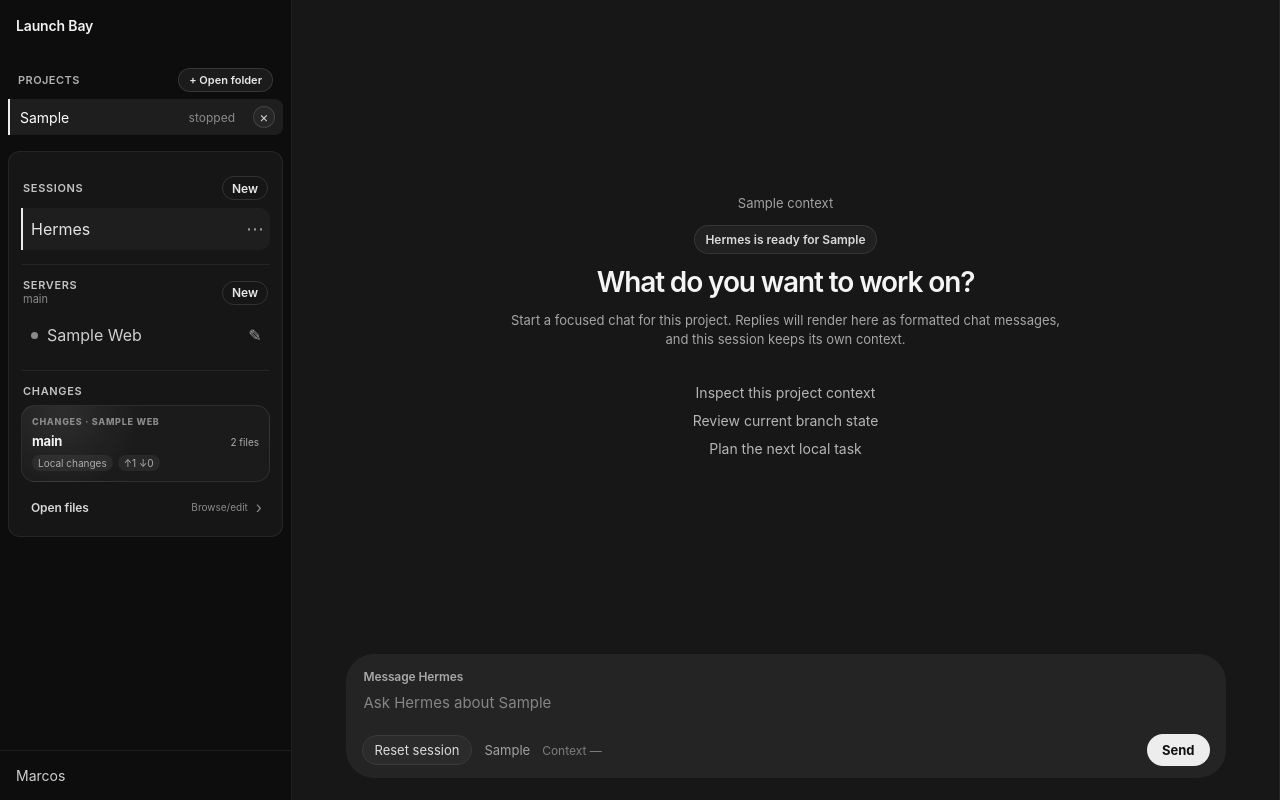
Test case: Launch Bay shell › runs and edits a configured server by server id when it differs from the workspace id
Click the button "Servers" at coordinates (50, 285), box 23,279 -> 77,291
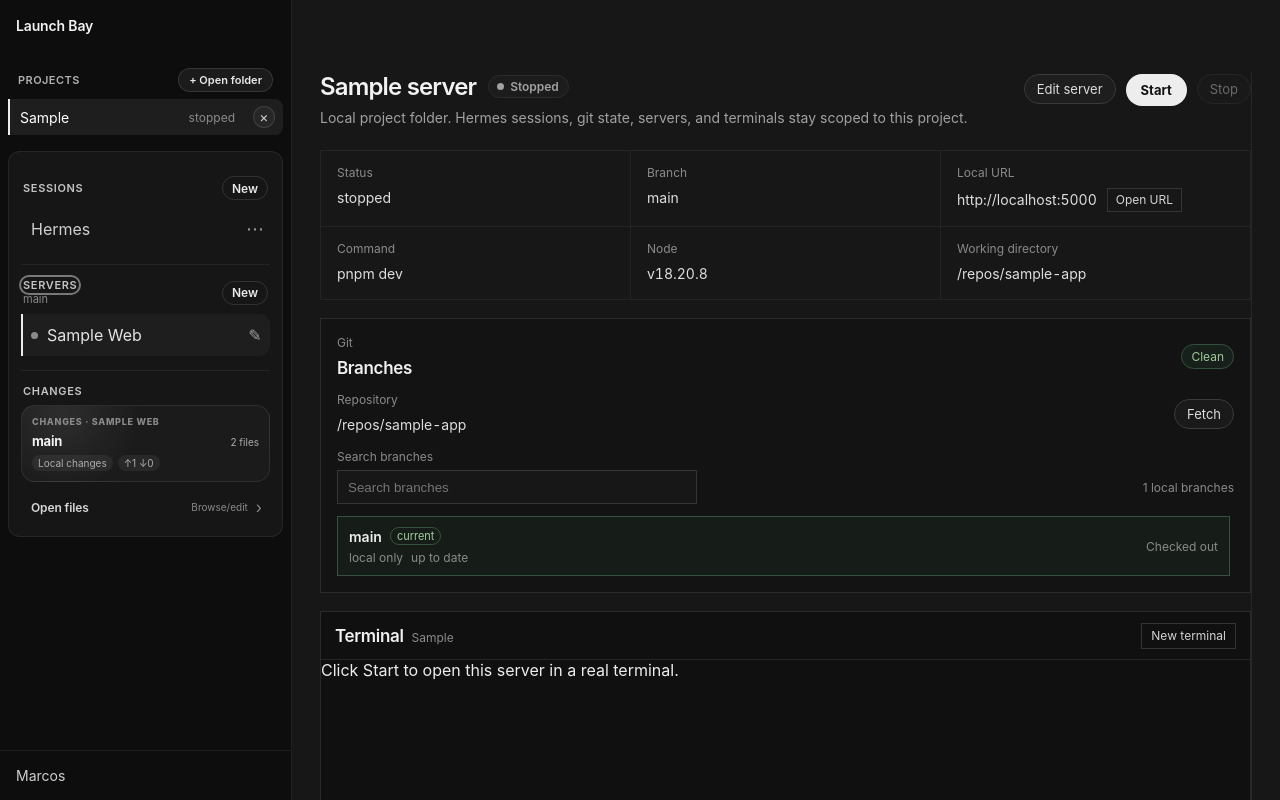
Check: the button with aria-label "New server" is shown, box 222,281 -> 268,305
Check: the button "Edit server" is shown
Check: the text "v18.20.8" is shown, box 647,265 -> 708,282
Click the button "Edit server" at coordinates (1070, 89), box 1024,74 -> 1116,104
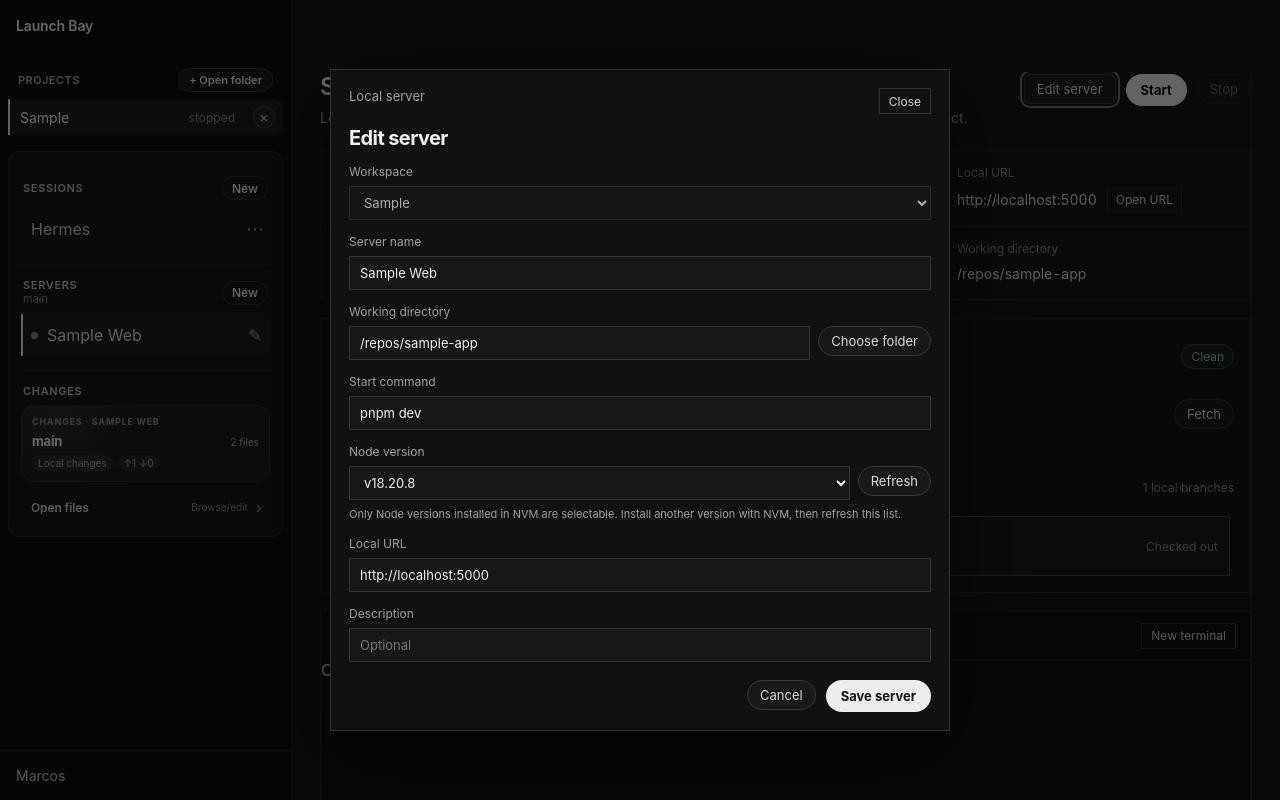
Check: the field labelled "Server name" holds "Sample Web", box 349,256 -> 931,290
Check: the dropdown labelled "Node version" shows "v18.20.8", box 349,466 -> 850,500
Check: the field labelled "Local URL" holds "http://localhost:5000", box 349,558 -> 931,592
Press Escape
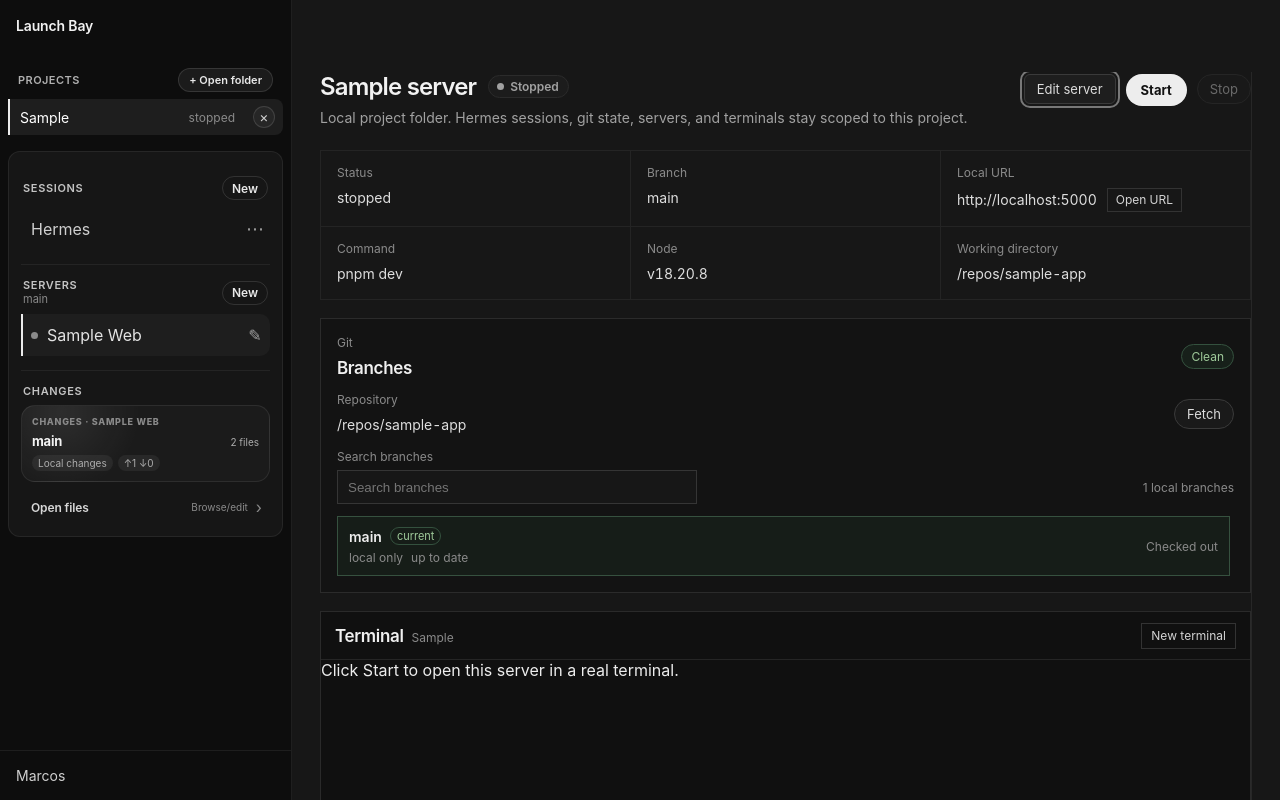
Click the button "Start" at coordinates (1156, 90), box 1126,74 -> 1187,106
(page scrolled)
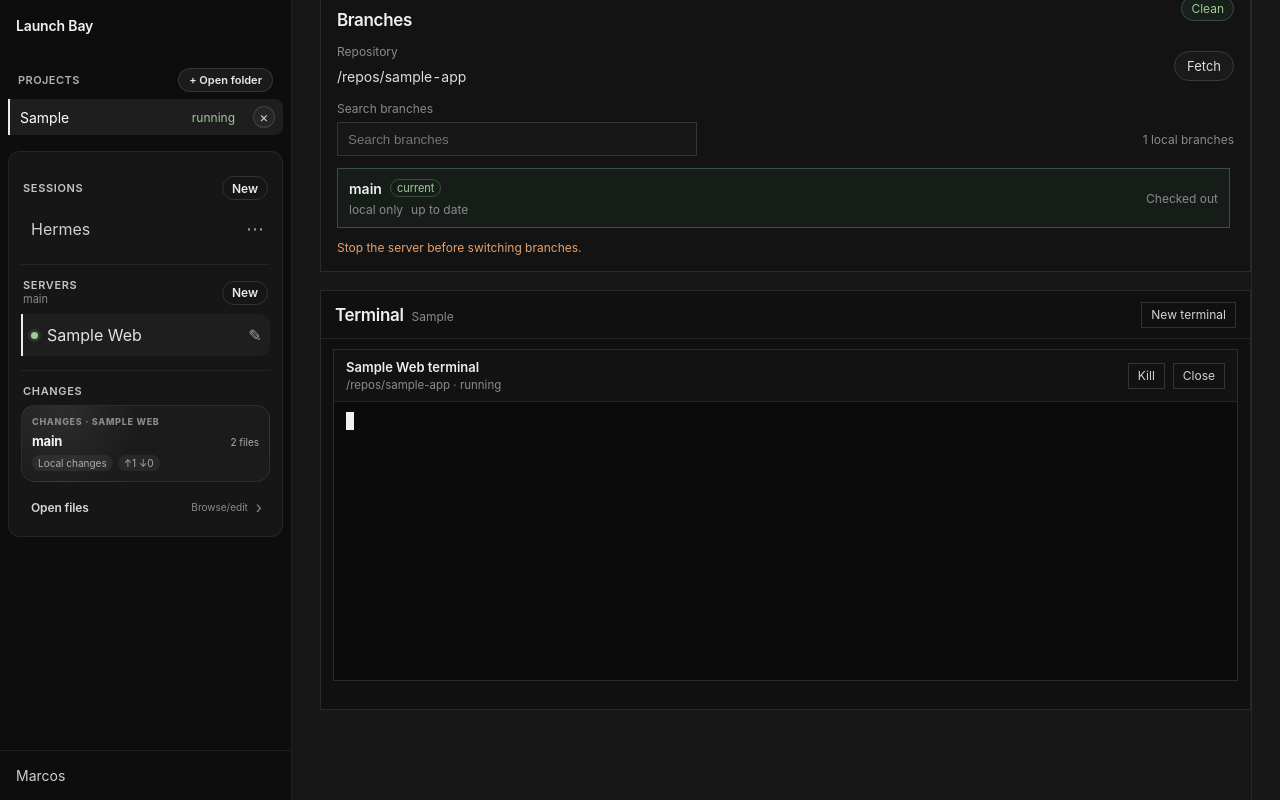
Check: the element "Sample Web terminal" is shown, box 333,349 -> 1238,681
